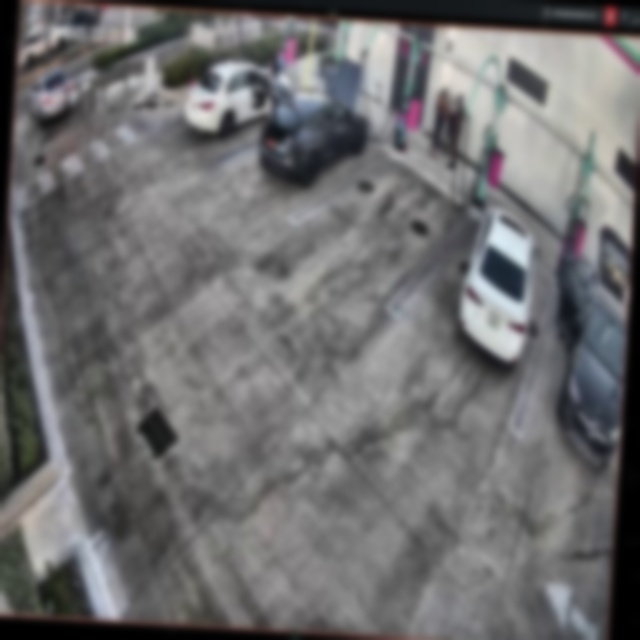Car: (258, 58, 371, 196), (456, 200, 543, 367)
